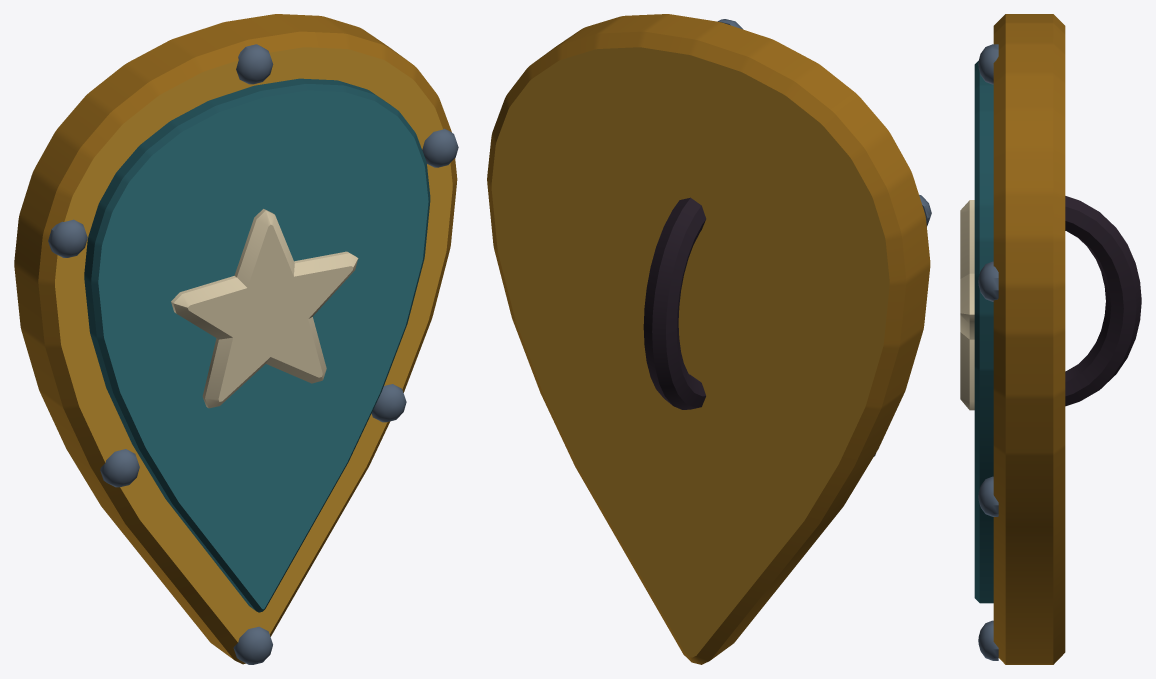
Rendered from KiteShield_20.glb.
3 renders of one model, left to right at view 1: azimuth 30°, elevation 25°; view 2: azimuth 150°, elevation 25°; view 3: azimuth 270°, elevation 25°, orthographic.
Visible parts, largest first — view 1: KiteShield_20; view 2: KiteShield_20; view 3: KiteShield_20.
Part boxes in pixels (x1,y1,x2,y2): KiteShield_20: (14,14,458,664); KiteShield_20: (487,14,931,664); KiteShield_20: (960,14,1141,664).
Bounding box in the file's own units: 2.01 × 2.86 × 0.76.
